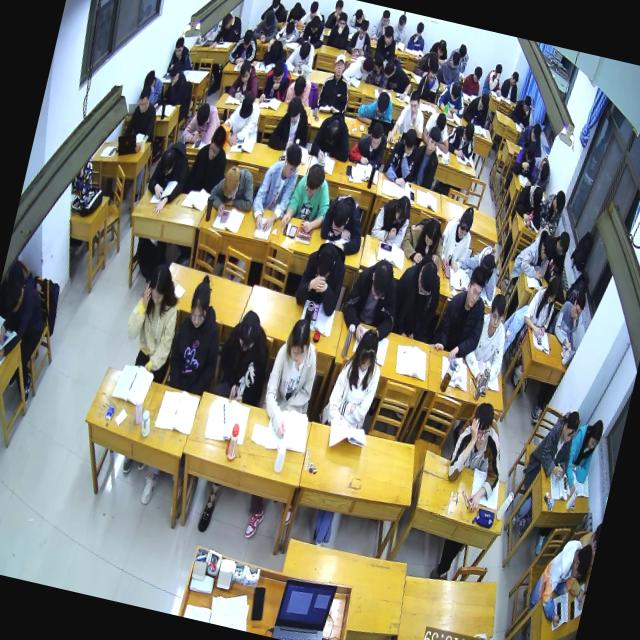bow: (142, 135, 196, 218), (315, 188, 371, 256), (398, 210, 452, 270), (206, 160, 260, 220), (308, 108, 358, 168), (460, 242, 506, 297), (179, 99, 224, 150), (352, 83, 398, 131), (419, 106, 456, 152), (282, 36, 318, 76), (434, 78, 469, 119), (260, 34, 290, 68), (274, 14, 302, 44), (427, 33, 453, 63)
down: (280, 314, 316, 372), (183, 276, 214, 332), (234, 306, 264, 356), (352, 327, 382, 375), (144, 263, 174, 309), (366, 258, 396, 303), (568, 542, 596, 586), (414, 256, 440, 295), (314, 240, 339, 279), (328, 197, 352, 236), (302, 162, 328, 198), (206, 124, 228, 164), (219, 163, 243, 198), (560, 405, 582, 443), (453, 206, 474, 242), (421, 214, 442, 250), (156, 144, 178, 176), (366, 116, 386, 150), (400, 124, 420, 156), (372, 88, 392, 120), (477, 249, 497, 280), (392, 194, 412, 225), (586, 418, 604, 452), (552, 226, 572, 256), (538, 230, 558, 260), (551, 184, 569, 214), (405, 86, 423, 116), (134, 87, 152, 117), (322, 115, 341, 143), (193, 101, 212, 129), (284, 96, 302, 124), (238, 94, 255, 120), (270, 60, 286, 87), (524, 138, 540, 164), (238, 56, 254, 81), (528, 120, 544, 144), (475, 90, 492, 112), (530, 183, 546, 206), (461, 118, 477, 140), (447, 81, 463, 103), (292, 72, 308, 94), (142, 68, 157, 90), (426, 59, 440, 82), (172, 36, 186, 59), (382, 58, 397, 79), (538, 160, 552, 182), (371, 48, 385, 70), (263, 6, 277, 28), (219, 12, 234, 32), (433, 111, 447, 132), (434, 37, 448, 58), (356, 18, 369, 40), (282, 19, 296, 39), (309, 11, 322, 32), (298, 40, 312, 59), (520, 92, 532, 114), (382, 24, 394, 46), (471, 64, 484, 84), (426, 51, 440, 69), (268, 0, 281, 19), (242, 26, 254, 46), (448, 50, 461, 68), (395, 13, 407, 31), (379, 9, 391, 27), (307, 0, 319, 17), (414, 20, 425, 38), (509, 70, 520, 87), (492, 61, 503, 77), (354, 9, 365, 24), (291, 0, 302, 14), (458, 43, 467, 58)
lookup: (465, 400, 496, 452), (462, 264, 489, 308), (486, 290, 508, 328), (424, 121, 444, 155), (569, 289, 588, 320), (332, 53, 348, 78), (336, 8, 349, 30), (332, 0, 343, 15)
sit: (256, 311, 331, 443), (160, 271, 233, 398), (439, 394, 517, 512), (316, 316, 394, 434), (116, 258, 189, 380), (428, 255, 497, 364), (210, 304, 280, 406), (528, 527, 598, 628), (337, 238, 409, 332), (384, 250, 448, 344), (247, 135, 305, 234), (463, 290, 518, 386), (292, 233, 352, 317), (523, 401, 582, 485), (278, 159, 338, 237), (184, 118, 235, 198), (560, 414, 606, 496), (435, 197, 481, 270), (119, 83, 164, 155), (510, 219, 560, 282), (266, 90, 317, 150), (368, 186, 416, 248), (388, 81, 432, 148), (219, 87, 267, 148), (521, 272, 562, 340), (546, 285, 588, 350), (316, 49, 358, 114), (381, 123, 422, 188), (345, 116, 392, 172), (408, 120, 446, 188), (509, 178, 549, 232), (532, 184, 570, 237), (256, 58, 295, 106), (378, 56, 416, 101), (227, 54, 264, 100), (208, 8, 244, 55), (160, 59, 193, 108), (414, 54, 446, 102), (444, 116, 481, 156), (227, 26, 260, 70), (510, 136, 542, 181), (462, 88, 494, 128), (344, 16, 376, 56), (283, 70, 316, 108), (167, 34, 197, 75), (250, 5, 281, 43), (436, 47, 466, 86), (137, 68, 166, 108), (342, 46, 376, 80), (516, 116, 547, 153), (326, 8, 354, 48), (300, 8, 328, 48), (528, 150, 556, 189), (372, 23, 400, 62), (412, 44, 444, 78), (509, 90, 535, 128), (481, 58, 507, 96), (364, 46, 389, 85), (368, 6, 394, 42), (460, 62, 485, 98), (498, 68, 522, 104), (446, 40, 471, 74), (259, 0, 291, 26), (406, 18, 430, 50), (297, 0, 326, 26), (390, 12, 412, 46), (324, 0, 348, 31), (346, 5, 368, 36), (286, 0, 308, 26), (394, 40, 405, 51)
